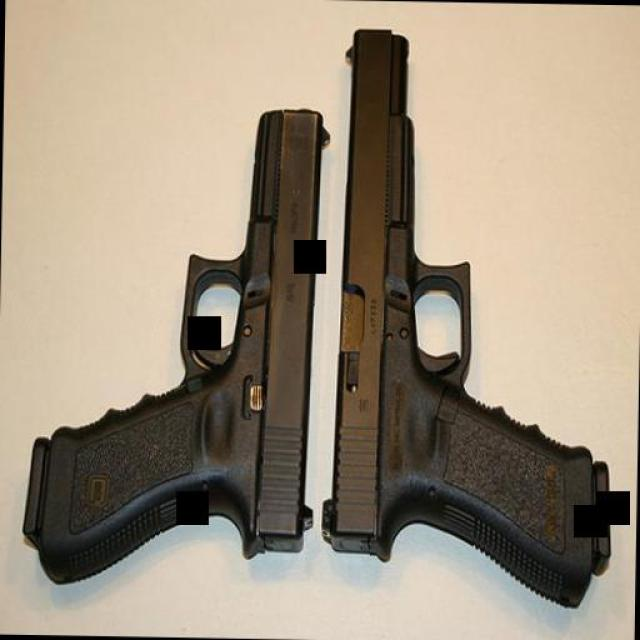gun: (317, 25, 618, 605), (14, 101, 328, 590)
